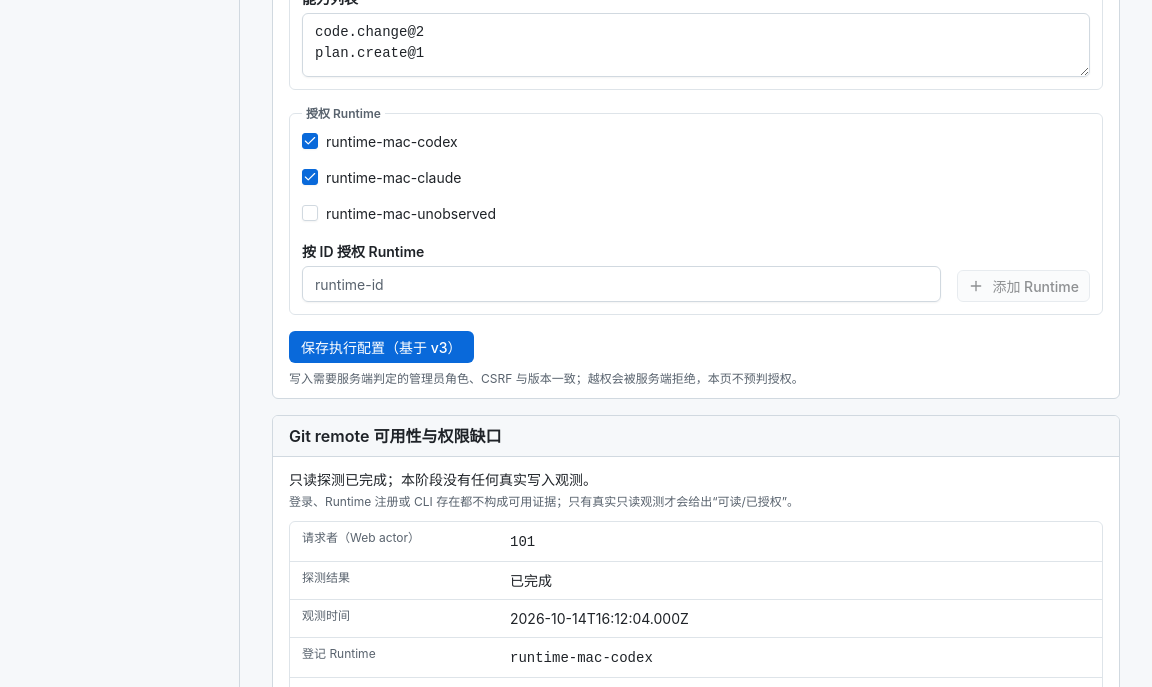
Scenario: runtime pages › writes the execution configuration with requestKey, expectedVersion and CSRF, then follows a conflict
This screenshot has width=1152, height=687.
(page scrolled)
Click the button "保存执行配置（基于 v3）".
click(381, 347)  # box [289, 331, 474, 363]
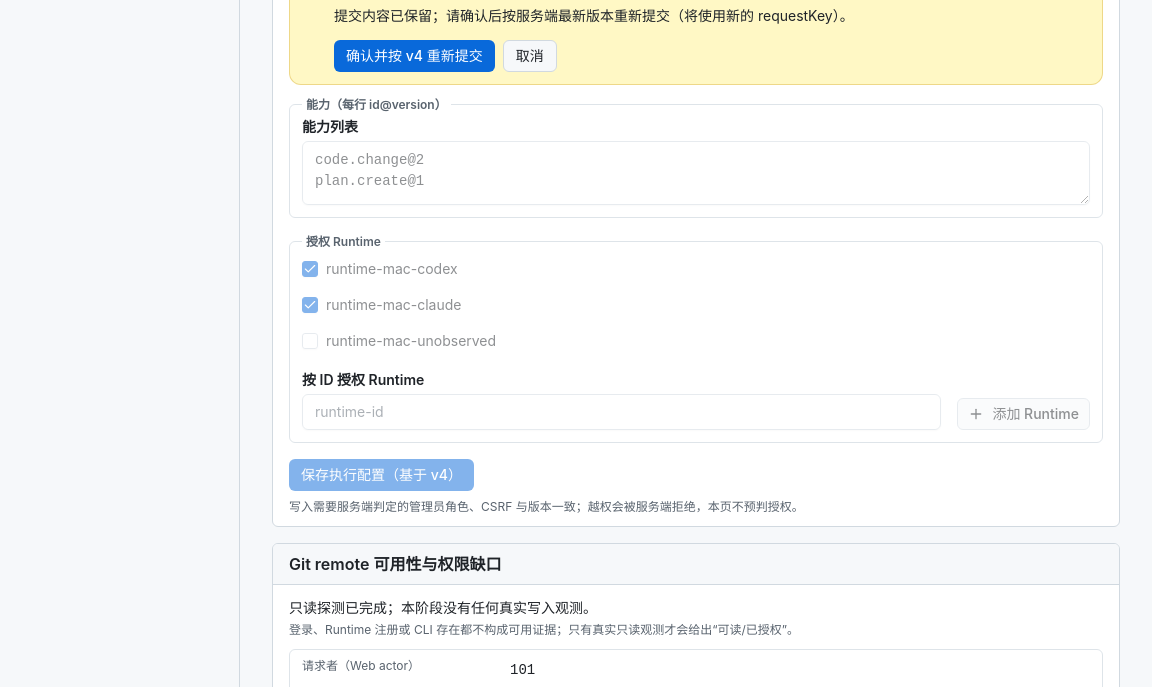
Click the button "确认并按 v4 重新提交".
click(414, 56)  # box [334, 40, 495, 72]
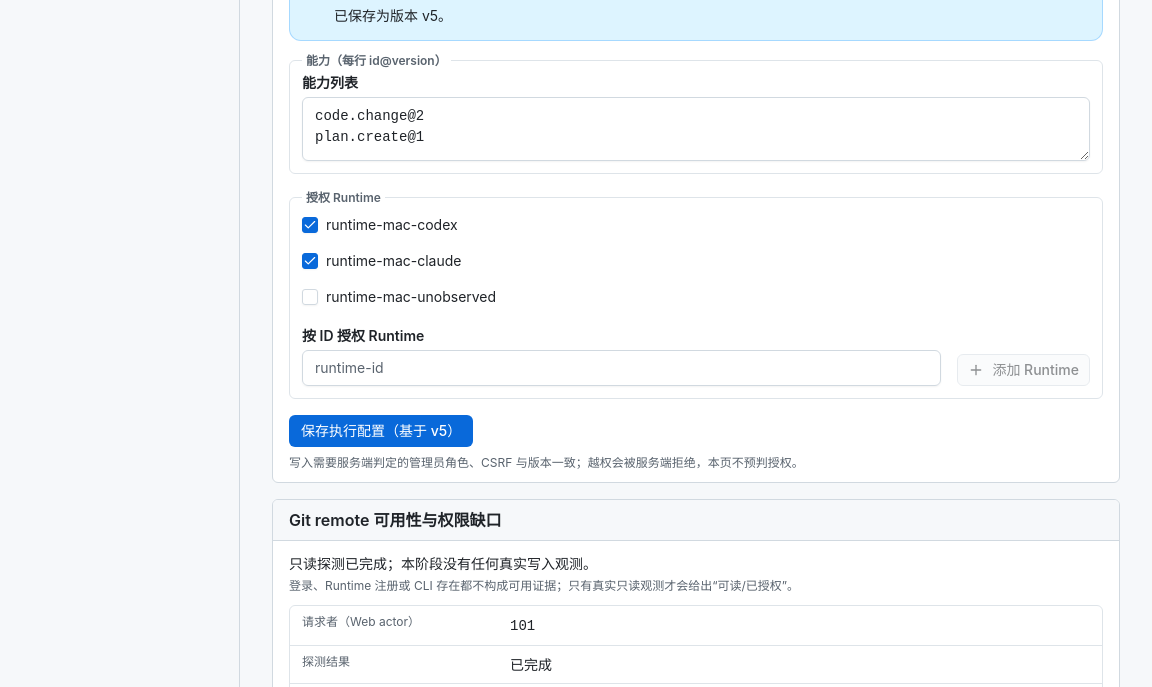
Expected: the text "已保存为版本 v5。" is shown, [334, 5, 452, 28]
